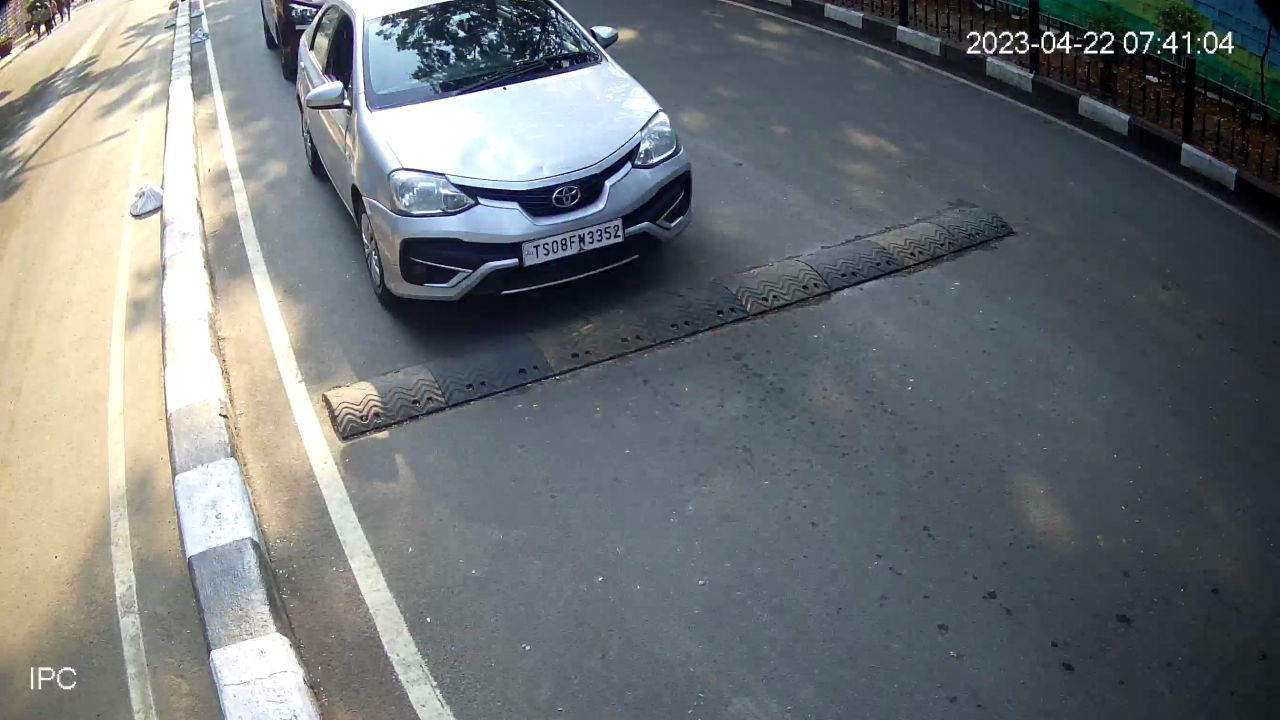license_plate: (519, 214, 628, 271)
